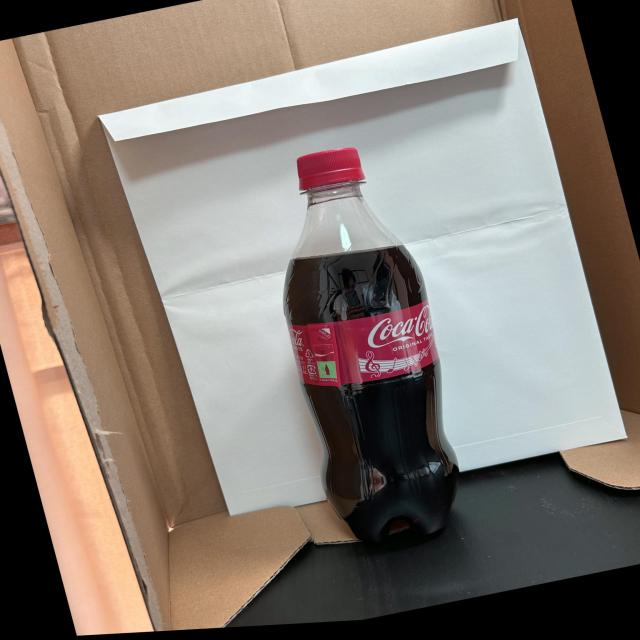high: (283, 149, 458, 541)
